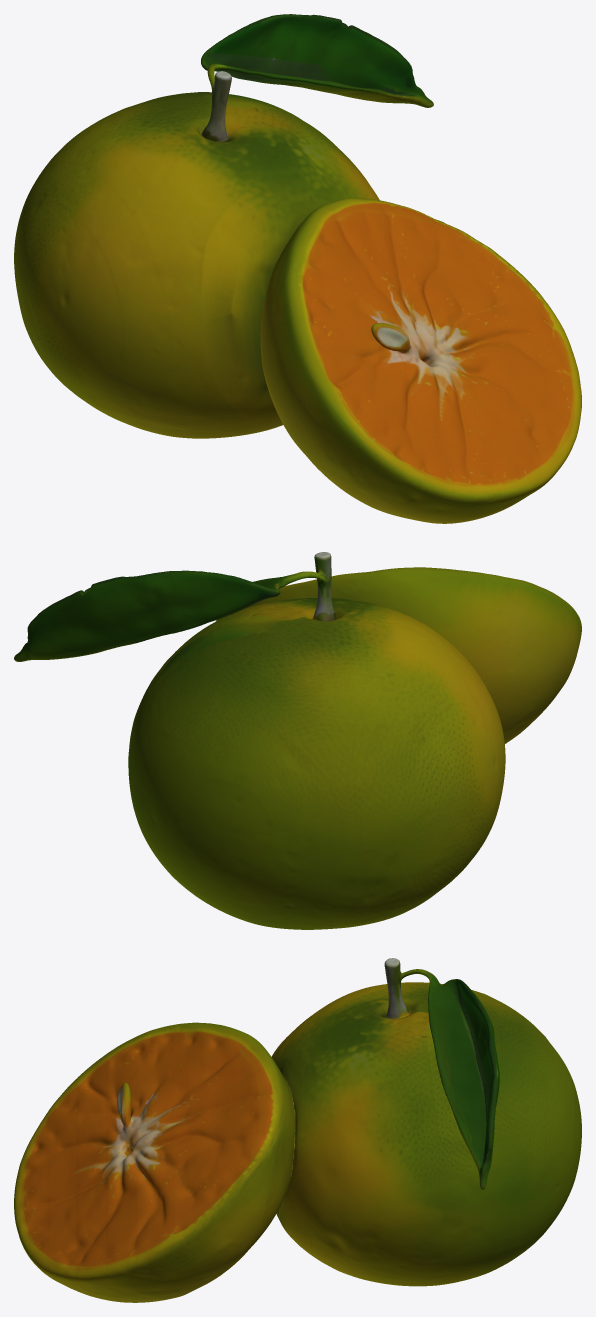
Rendered from orange-half.glb.
3 renders of one model, top to bottom at view 1: azimuth 30°, elevation 25°; view 2: azimuth 150°, elevation 25°; view 3: azimuth 270°, elevation 25°, orthographic. The views are drawn at different scales.
Visible parts, largest first — view 1: tripo_node_f927e57a-28ce-45f0-bccc-89429cfbbdb1_0; view 2: tripo_node_f927e57a-28ce-45f0-bccc-89429cfbbdb1_0; view 3: tripo_node_f927e57a-28ce-45f0-bccc-89429cfbbdb1_0.
Part boxes in pixels (x1=…): tripo_node_f927e57a-28ce-45f0-bccc-89429cfbbdb1_0: x1=14, y1=14, x2=581, y2=523; tripo_node_f927e57a-28ce-45f0-bccc-89429cfbbdb1_0: x1=14, y1=552, x2=581, y2=929; tripo_node_f927e57a-28ce-45f0-bccc-89429cfbbdb1_0: x1=14, y1=958, x2=581, y2=1302.
Bounding box in the file's own units: 0.7736 × 0.5769 × 1.
Materials: 1 (1 with a texture image).
